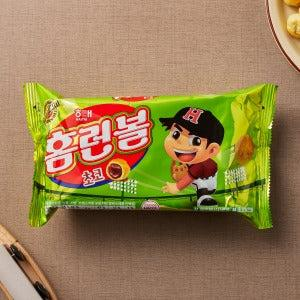snack: (22, 81, 279, 229)
